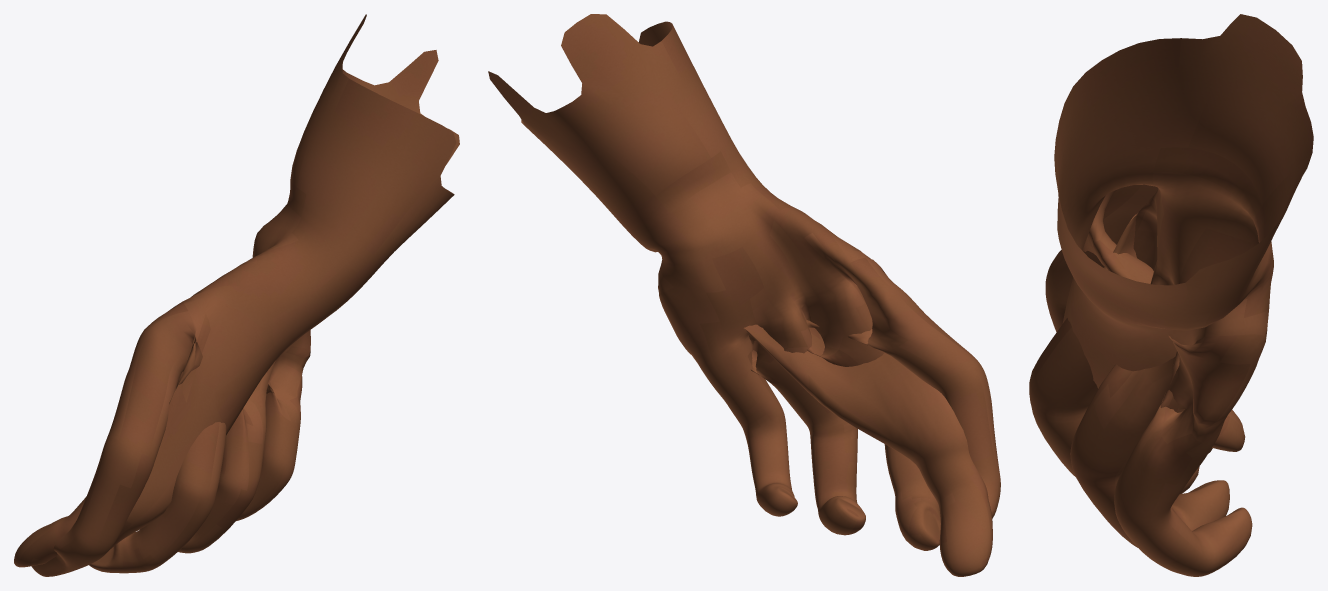
File: hand-grip.glb
The picture shows the model from 3 angles, left to right: view 1: azimuth 30°, elevation 25°; view 2: azimuth 150°, elevation 25°; view 3: azimuth 270°, elevation 25°; orthographic projection. The views are drawn at different scales.
Parts seen in each view (by area): view 1: HandGrip; view 2: HandGrip; view 3: HandGrip.
Boxes of the visible parts, left/top/right/bottom form: HandGrip: left=14, top=14, right=459, bottom=576; HandGrip: left=488, top=14, right=1000, bottom=576; HandGrip: left=1029, top=14, right=1313, bottom=576.
Size of the model in its own units: 0.1656 by 0.1634 by 0.0613.
1 material, 1 textured.
